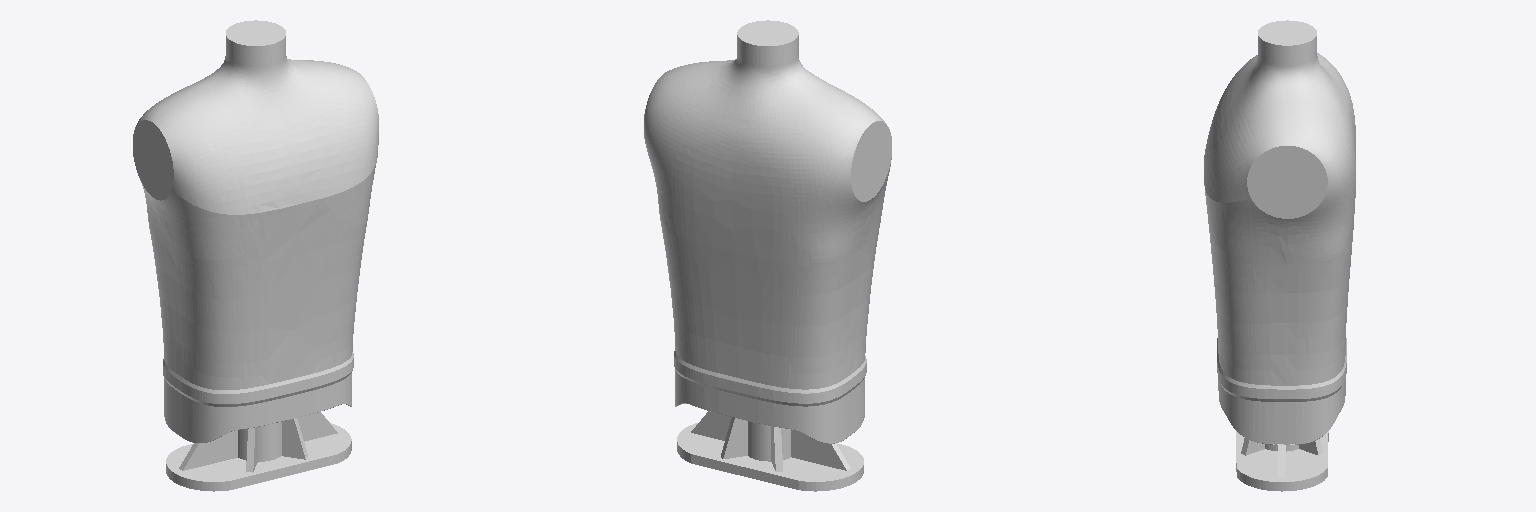
robot.urdf — pib:
<?xml version="1.0"?>
<robot name="pib">
  <link name="base_link"/>

  <joint name="base_link_to_base" type="fixed">
    <parent link="base_link"/>
    <child link="urdf_body"/>
    <origin rpy="0.0 0 0" xyz="0 0 -0.35"/>
  </joint>

  <link name="urdf_body">
    <visual>
      <origin xyz="-0.013132987582171207555 0.012566156500572068372 0.89118743593020444127" rpy="0 -0 0" />
      <geometry>
        <mesh filename="package://my_pib_description/meshes/urdf_body1.stl"/>
      </geometry>
      <material name="urdf_body_material">
        <color rgba="0.90196078431372550543 0.90196078431372550543 0.90196078431372550543 1.0"/>
      </material>
    </visual>
    <collision>
      <origin xyz="-0.013132987582171207555 0.012566156500572068372 0.89118743593020444127" rpy="0 -0 0" />
      <geometry>
        <mesh filename="package://my_pib_description/meshes/urdf_body1.stl"/>
      </geometry>
    </collision>
    <inertial>
      <origin xyz="-0.013148572994685497894 0.0062708327937176754074 0.3390600811380728441" rpy="0 0 0"/>
      <mass value="14.742451245988362984" />
      <inertia ixx="1.0215370085595509853" ixy="8.1750220923067520971e-07" ixz="2.0415306187995358275e-05" iyy="1.0802675023496579598" iyz="-0.0086376981174313364337" izz="0.10390259338508466003" />
    </inertial>
  </link>

  <link name="urdf_head_base">
    <visual>
      <origin xyz="0 1.7347234759768070944e-18 0.096600000000000019185" rpy="3.141592653589793116 -0 -5.2519588314391687104e-19" />
      <geometry>
        <mesh filename="package://my_pib_description/meshes/urdf_head_base.stl"/>
      </geometry>
      <material name="urdf_head_base_material">
        <color rgba="0.90196078431372550543 0.90196078431372550543 0.90196078431372550543 1.0"/>
      </material>
    </visual>
    <collision>
      <origin xyz="0 1.7347234759768070944e-18 0.096600000000000019185" rpy="3.141592653589793116 -0 -5.2519588314391687104e-19" />
      <geometry>
        <mesh filename="package://my_pib_description/meshes/urdf_head_base.stl"/>
      </geometry>
    </collision>
    <inertial>
      <origin xyz="-3.4780229255899585664e-05 0.017377672968967167177 -0.012899139977839313431" rpy="0 0 0"/>
      <mass value="0.2752183787437366691" />
      <inertia ixx="0.00026904306851896188585" ixy="4.9266012202656627337e-07" ixz="-1.9175035112766405392e-09" iyy="0.00016134789791135662157" iyz="-1.2039857658914160575e-08" izz="0.00039920756811286805697" />
    </inertial>
  </link>

  <link name="urdf_head">
    <visual>
      <origin xyz="0.048000000000000014877 0.10950000000000004174 -0.041750000000000002387" rpy="1.570796326794896558 1.570796326794896558 0" />
      <geometry>
        <mesh filename="package://my_pib_description/meshes/urdf_head.stl"/>
      </geometry>
      <material name="urdf_head_material">
        <color rgba="0.90196078431372550543 0.90196078431372550543 0.90196078431372550543 1.0"/>
      </material>
    </visual>
    <collision>
      <origin xyz="0.048000000000000014877 0.10950000000000004174 -0.041750000000000002387" rpy="1.570796326794896558 1.570796326794896558 0" />
      <geometry>
        <mesh filename="package://my_pib_description/meshes/urdf_head.stl"/>
      </geometry>
    </collision>
    <inertial>
      <origin xyz="-0.010752349739485883573 -0.069547124687647815522 -0.041747581920920449894" rpy="0 0 0"/>
      <mass value="0.51230822453493207735" />
      <inertia ixx="0.0045866170752479808875" ixy="0.00041100822612432741203" ixz="2.2896139325064005489e-06" iyy="0.003546183171123245409" iyz="5.7328545887266115502e-07" izz="0.0027748989212668900665" />
    </inertial>
  </link>

  <joint name="head_vertical" type="revolute">
    <origin xyz="-0.041250000000000008882 0.048000000000000021816 -0.012899999999999911537" rpy="1.570796326794896558 -2.7286008646779410258e-19 -1.5707963267948970021" />
    <parent link="urdf_head_base" />
    <child link="urdf_head" />
    <axis xyz="0 0 1"/>
    <limit effort="1" velocity="20" lower="-0.785398163397448279" upper="1.2217304763960306069"/>
    <joint_properties friction="0.0"/>
  </joint>

  <joint name="head_horizontal" type="revolute">
    <origin xyz="-0.013133585993821498758 0.012566127962098751214 0.98718743593020441551" rpy="3.141592653589793116 1.265248665445670253e-22 -0.0029026197161877579159" />
    <parent link="urdf_body" />
    <child link="urdf_head_base" />
    <axis xyz="0 0 1"/>
    <limit effort="1" velocity="20" lower="-1.570796326794896558" upper="1.570796326794896558"/>
    <joint_properties friction="0.0"/>
  </joint>

  <link name="urdf_shoulder_vertical_2">
    <visual>
      <origin xyz="-4.7531423241764514387e-16 1.1102230246251565404e-16 -0.0060000000000000053291" rpy="3.141592653589793116 -1.570796326794896558 0" />
      <geometry>
        <mesh filename="package://my_pib_description/meshes/urdf_shoulder_vertical.stl"/>
      </geometry>
      <material name="urdf_shoulder_vertical_material">
        <color rgba="0.90196078431372550543 0.90196078431372550543 0.90196078431372550543 1.0"/>
      </material>
    </visual>
    <collision>
      <origin xyz="-4.7531423241764514387e-16 1.1102230246251565404e-16 -0.0060000000000000053291" rpy="3.141592653589793116 -1.570796326794896558 0" />
      <geometry>
        <mesh filename="package://my_pib_description/meshes/urdf_shoulder_vertical.stl"/>
      </geometry>
    </collision>
    <inertial>
      <origin xyz="-4.7586038048089654607e-16 1.006971519153712357e-16 0.042642994191431304873" rpy="0 0 0"/>
      <mass value="0.25000000000000005551" />
      <inertia ixx="0.00072724079589201362679" ixy="-4.3924215229801008264e-76" ixz="5.7948769800549160682e-48" iyy="0.00047340124215038056074" iyz="1.2012875121614688988e-47" izz="0.00067680797638553576341" />
    </inertial>
  </link>

  <link name="urdf_shoulder_horizontal_2">
    <visual>
      <origin xyz="0 0.06500000000000000222 -0.037200000000000010836" rpy="1.570796326794896558 1.4791141973171533545e-31 -1.570796326794896558" />
      <geometry>
        <mesh filename="package://my_pib_description/meshes/urdf_shoulder_horizontal.stl"/>
      </geometry>
      <material name="urdf_shoulder_horizontal_material">
        <color rgba="0.90196078431372550543 0.90196078431372550543 0.90196078431372550543 1.0"/>
      </material>
    </visual>
    <collision>
      <origin xyz="0 0.06500000000000000222 -0.037200000000000010836" rpy="1.570796326794896558 1.4791141973171533545e-31 -1.570796326794896558" />
      <geometry>
        <mesh filename="package://my_pib_description/meshes/urdf_shoulder_horizontal.stl"/>
      </geometry>
    </collision>
    <inertial>
      <origin xyz="0.03141565709210976387 -1.2792556056129278375e-08 -0.037200000441739232426" rpy="0 0 0"/>
      <mass value="0.3499999999999999778" />
      <inertia ixx="0.00037058906386676219221" ixy="-1.2826983306073642213e-10" ixz="-7.7908665627271018081e-11" iyy="0.00079724647302412317024" iyz="1.2288090341174993695e-10" izz="0.00084576167306383361229" />
    </inertial>
  </link>

  <link name="urdf_elbow-upper_2">
    <visual>
      <origin xyz="-0.065000113126188405199 8.9579510664794526065e-07 0.14000000000000004108" rpy="-6.3221072019377880708e-31 -6.6980804052007131947e-31 -2.134136058872579744e-31" />
      <geometry>
        <mesh filename="package://my_pib_description/meshes/urdf_elbow-upper.stl"/>
      </geometry>
      <material name="urdf_elbow-upper_material">
        <color rgba="0.90196078431372550543 0.90196078431372550543 0.90196078431372550543 1.0"/>
      </material>
    </visual>
    <collision>
      <origin xyz="-0.065000113126188405199 8.9579510664794526065e-07 0.14000000000000004108" rpy="-6.3221072019377880708e-31 -6.6980804052007131947e-31 -2.134136058872579744e-31" />
      <geometry>
        <mesh filename="package://my_pib_description/meshes/urdf_elbow-upper.stl"/>
      </geometry>
    </collision>
    <inertial>
      <origin xyz="-4.4526328486782507099e-07 -0.005613683433376504342 -0.021290240894863005083" rpy="0 0 0"/>
      <mass value="0.21700098433583239754" />
      <inertia ixx="0.00020767324075755694561" ixy="-4.6362216441835536371e-10" ixz="-1.1291109162268427319e-09" iyy="0.0003257830855249441767" iyz="-2.9777665381350169389e-05" izz="0.00031634043511068947289" />
    </inertial>
  </link>

  <link name="urdf_elbow-lower_2">
    <visual>
      <origin xyz="-0.13812409200567404843 -0.16782384366109792673 0.027200113126188370238" rpy="2.356194490192344837 1.570796326794896558 0" />
      <geometry>
        <mesh filename="package://my_pib_description/meshes/urdf_elbow-lower.stl"/>
      </geometry>
      <material name="urdf_elbow-lower_material">
        <color rgba="0.90196078431372550543 0.90196078431372550543 0.90196078431372550543 1.0"/>
      </material>
    </visual>
    <collision>
      <origin xyz="-0.13812409200567404843 -0.16782384366109792673 0.027200113126188370238" rpy="2.356194490192344837 1.570796326794896558 0" />
      <geometry>
        <mesh filename="package://my_pib_description/meshes/urdf_elbow-lower.stl"/>
      </geometry>
    </collision>
    <inertial>
      <origin xyz="0.043032345513961067773 0.015369344989338893856 -0.037800343546969129849" rpy="0 0 0"/>
      <mass value="0.14960335360770107838" />
      <inertia ixx="0.00022936722111307664791" ixy="-5.4529749402997660957e-06" ixz="-4.34214950424493683e-09" iyy="0.00024909717114533216301" iyz="1.4345465837917941077e-09" izz="0.00016870950008625071694" />
    </inertial>
  </link>

  <link name="urdf_forearm_2">
    <visual>
      <origin xyz="-0.064741926567294535988 -0.00046870620534839035898 0.30343785999999994818" rpy="-1.8029589009935964194e-17 -3.1622885841323915255e-31 -1.0027142666266823121e-30" />
      <geometry>
        <mesh filename="package://my_pib_description/meshes/urdf_forearm.stl"/>
      </geometry>
      <material name="urdf_forearm_material">
        <color rgba="0.90196078431372550543 0.90196078431372550543 0.90196078431372550543 1.0"/>
      </material>
    </visual>
    <collision>
      <origin xyz="-0.064741926567294535988 -0.00046870620534839035898 0.30343785999999994818" rpy="-1.8029589009935964194e-17 -3.1622885841323915255e-31 -1.0027142666266823121e-30" />
      <geometry>
        <mesh filename="package://my_pib_description/meshes/urdf_forearm.stl"/>
      </geometry>
    </collision>
    <inertial>
      <origin xyz="0.0018761096199147314634 -4.4442311062226879472e-07 -0.050267094888194252533" rpy="0 0 0"/>
      <mass value="0.057000000000000022871" />
      <inertia ixx="0.00018119182777985410964" ixy="-2.057982129522934684e-10" ixz="7.3610097522744015404e-06" iyy="0.00017182225954469551869" iyz="-2.1213780996957606787e-09" izz="6.8995586508010533187e-05" />
    </inertial>
  </link>

  <joint name="forearm_right" type="revolute">
    <origin xyz="0.076438243046270615277 0.046739758236434170158 -0.037799999999999951694" rpy="0.7853981633974851384 -1.5707963267948850117 0" />
    <parent link="urdf_elbow-lower_2" />
    <child link="urdf_forearm_2" />
    <axis xyz="0 0 1"/>
    <limit effort="1" velocity="20" lower="-1.570796326794896558" upper="1.570796326794896558"/>
    <joint_properties friction="0.0"/>
  </joint>

  <joint name="elbow_right" type="revolute">
    <origin xyz="-0.037899999999999982314 -0.020999999999997687183 -0.076337859999996593441" rpy="-3.1415926535897926719 1.570796326794881681 0" />
    <parent link="urdf_elbow-upper_2" />
    <child link="urdf_elbow-lower_2" />
    <axis xyz="0 0 1"/>
    <limit effort="1" velocity="20" lower="-0.785398163397448279" upper="1.570796326794896558"/>
    <joint_properties friction="0.0"/>
  </joint>

  <joint name="upper_arm_right" type="revolute">
    <origin xyz="0.14000000000000023537 3.9898639947466563171e-17 -0.037200000000000787992" rpy="-1.5707963267948961139 5.2186995640945646394e-15 1.5707963267948894526" />
    <parent link="urdf_shoulder_horizontal_2" />
    <child link="urdf_elbow-upper_2" />
    <axis xyz="0 0 1"/>
    <limit effort="1" velocity="20" lower="-1.570796326794896558" upper="1.570796326794896558"/>
    <joint_properties friction="0.0"/>
  </joint>

  <joint name="shoulder_horizontal_right" type="revolute">
    <origin xyz="-6.4184768611141862493e-16 -0.037495364809999709443 0.059000000000000080158" rpy="1.5707963267948992225 -1.5707963267948956698 0" />
    <parent link="urdf_shoulder_vertical_2" />
    <child link="urdf_shoulder_horizontal_2" />
    <axis xyz="0 0 1"/>
    <limit effort="1" velocity="20" lower="-1.570796326794896558" upper="1.570796326794896558"/>
    <joint_properties friction="0.0"/>
  </joint>

  <joint name="shoulder_vertical_right" type="revolute">
    <origin xyz="-0.1731329875821712716 0.012565756136336734411 0.83568843836869388664" rpy="-1.570796326794896558 -0 1.570796326794896558" />
    <parent link="urdf_body" />
    <child link="urdf_shoulder_vertical_2" />
    <axis xyz="0 0 1"/>
    <limit effort="1" velocity="20" lower="-1.570796326794896558" upper="1.570796326794896558"/>
    <joint_properties friction="0.0"/>
  </joint>

  <link name="tool_link"/>

  <joint name="tool_joint" type="fixed">
    <parent link="urdf_forearm_2"/>
    <child link="tool_link"/>
    <origin xyz="0 0 0" rpy="0 0 0"/>
  </joint>

</robot>

--- Render facts (derived) ---
The picture shows the robot from 3 angles, left to right: view 1: azimuth 30°, elevation 25°; view 2: azimuth 150°, elevation 25°; view 3: azimuth 270°, elevation 25°; orthographic projection.
Robot: pib — 10 links, 9 joints (7 revolute, 2 fixed); root link base_link; default pose: all joints at 0.
Visible links, largest first — view 1: urdf_body; view 2: urdf_body; view 3: urdf_body.
Link boxes in pixels (x1,y1,x2,y2): urdf_body: [133, 20, 378, 491]; urdf_body: [644, 20, 891, 491]; urdf_body: [1204, 20, 1355, 491].
Bounding box of the posed robot: 0.32 × 0.2094 × 0.632 m (x, y, z).
1 mesh visuals loaded from 8 distinct referenced files (1 binary STL); not drawn: 7 (reference not matched to a file when rendering).